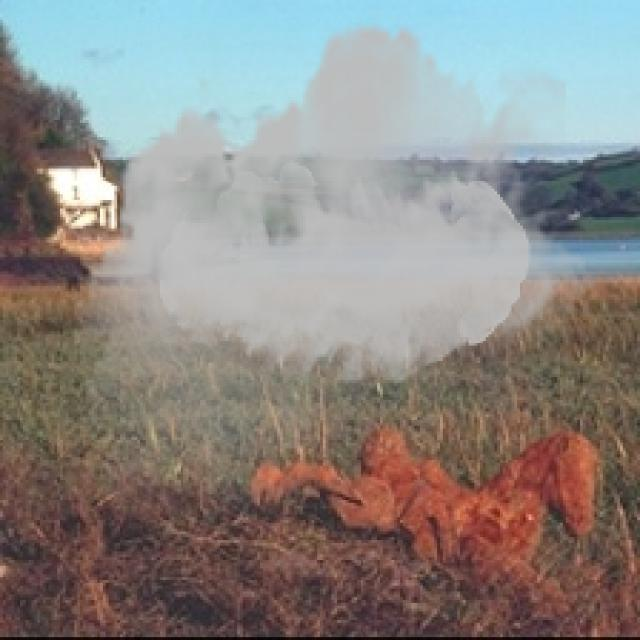Smoke: (74, 2, 600, 534)
